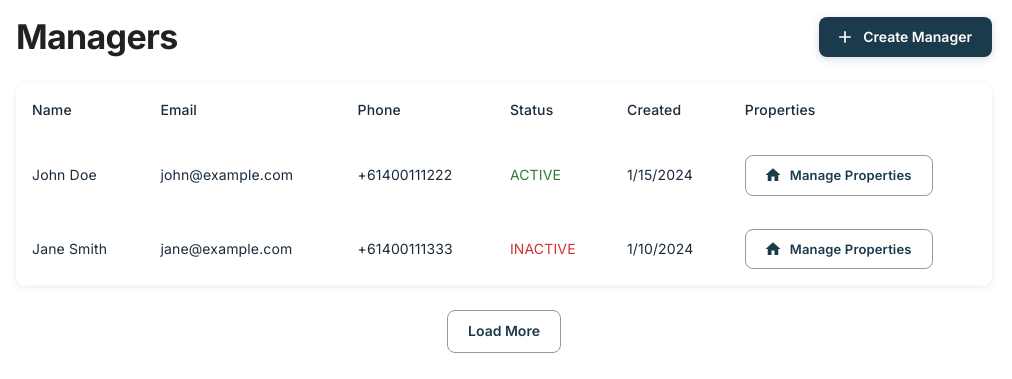
Test: AdminManagers › loads more managers when load more button is clicked
The image size is (1012, 379).
Check: the text "John Doe" is shown, box [16,138,144,212]
Click the button "Load More": [504, 332] box [447,310,561,353]
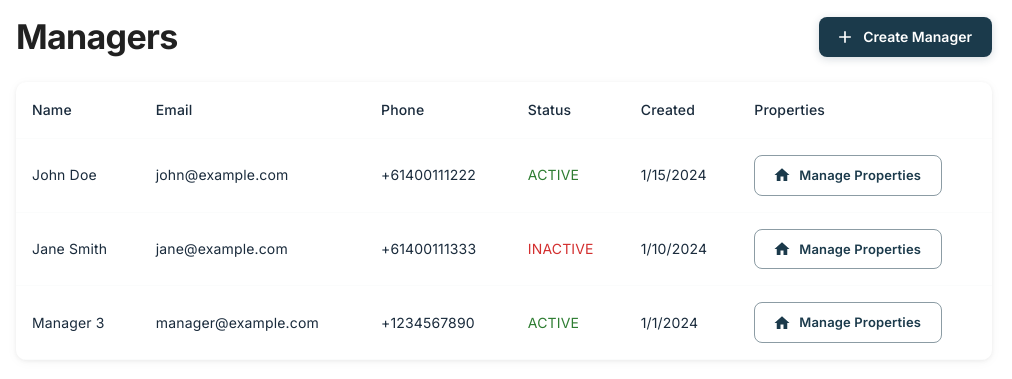
Check: the text "Manager 3" is shown, box [16,286,140,360]
